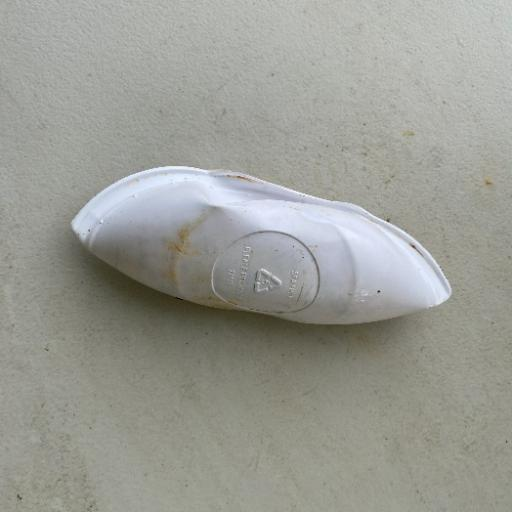Plastic: (68, 160, 454, 330)
